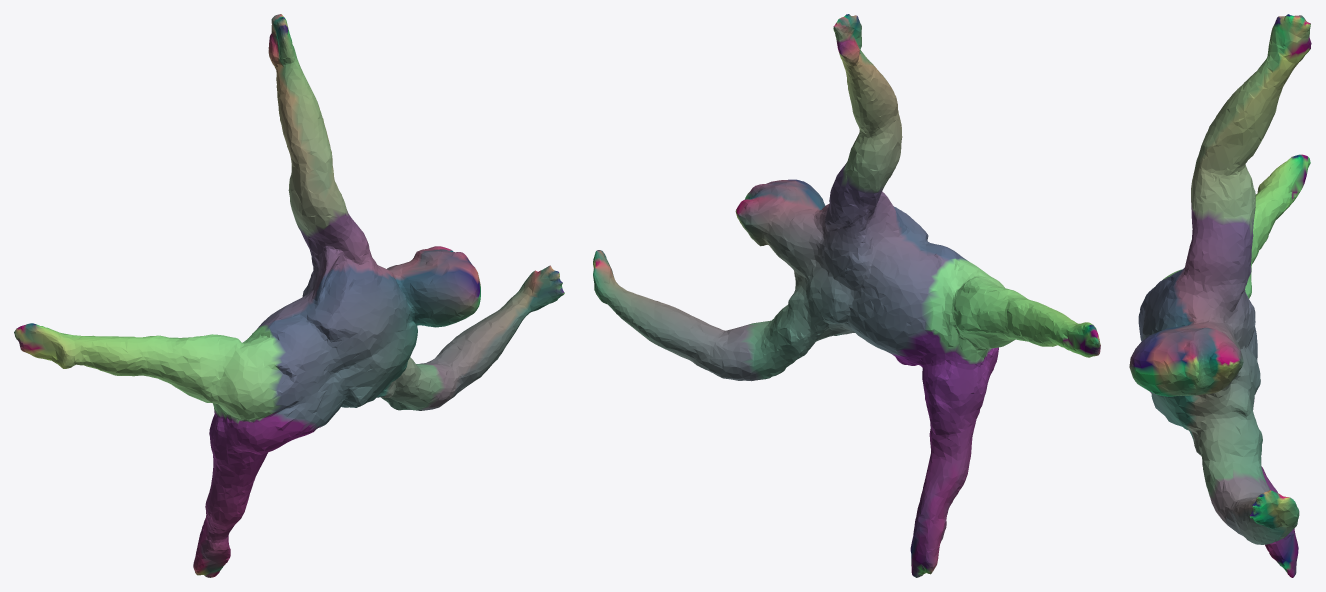
File: gorilla-6.off.obj
3 views of the same model, side by side, from view 1: azimuth 30°, elevation 25°; view 2: azimuth 150°, elevation 25°; view 3: azimuth 270°, elevation 25° (orthographic). The views are drawn at different scales.
Size of the model in its own units: 1.63 by 1.62 by 0.4448.
